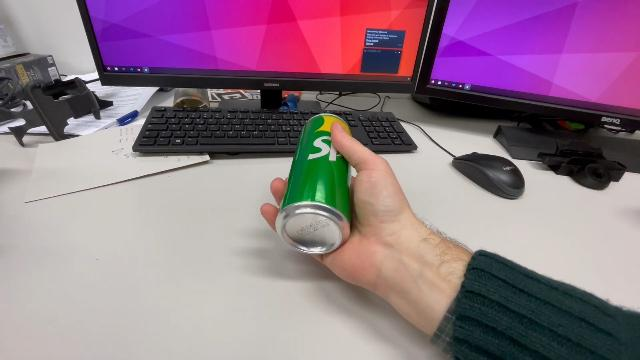Sprite: (272, 111, 356, 257)
